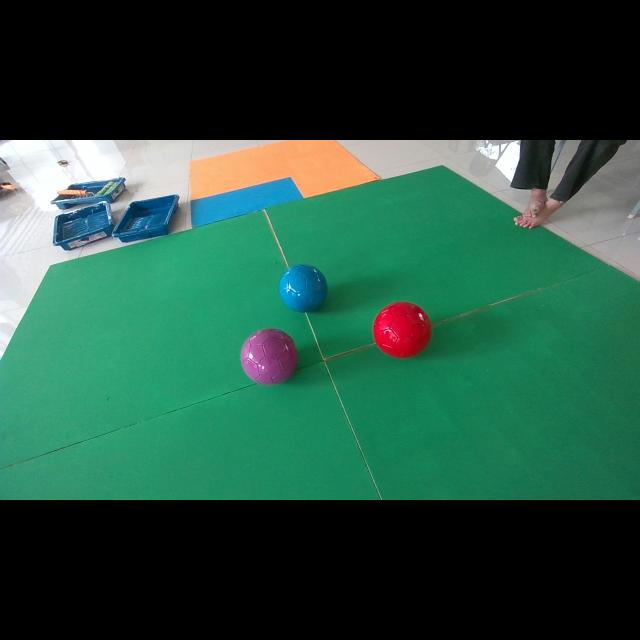B: (279, 265, 328, 312)
P: (240, 329, 299, 385)
R: (372, 301, 432, 358)
